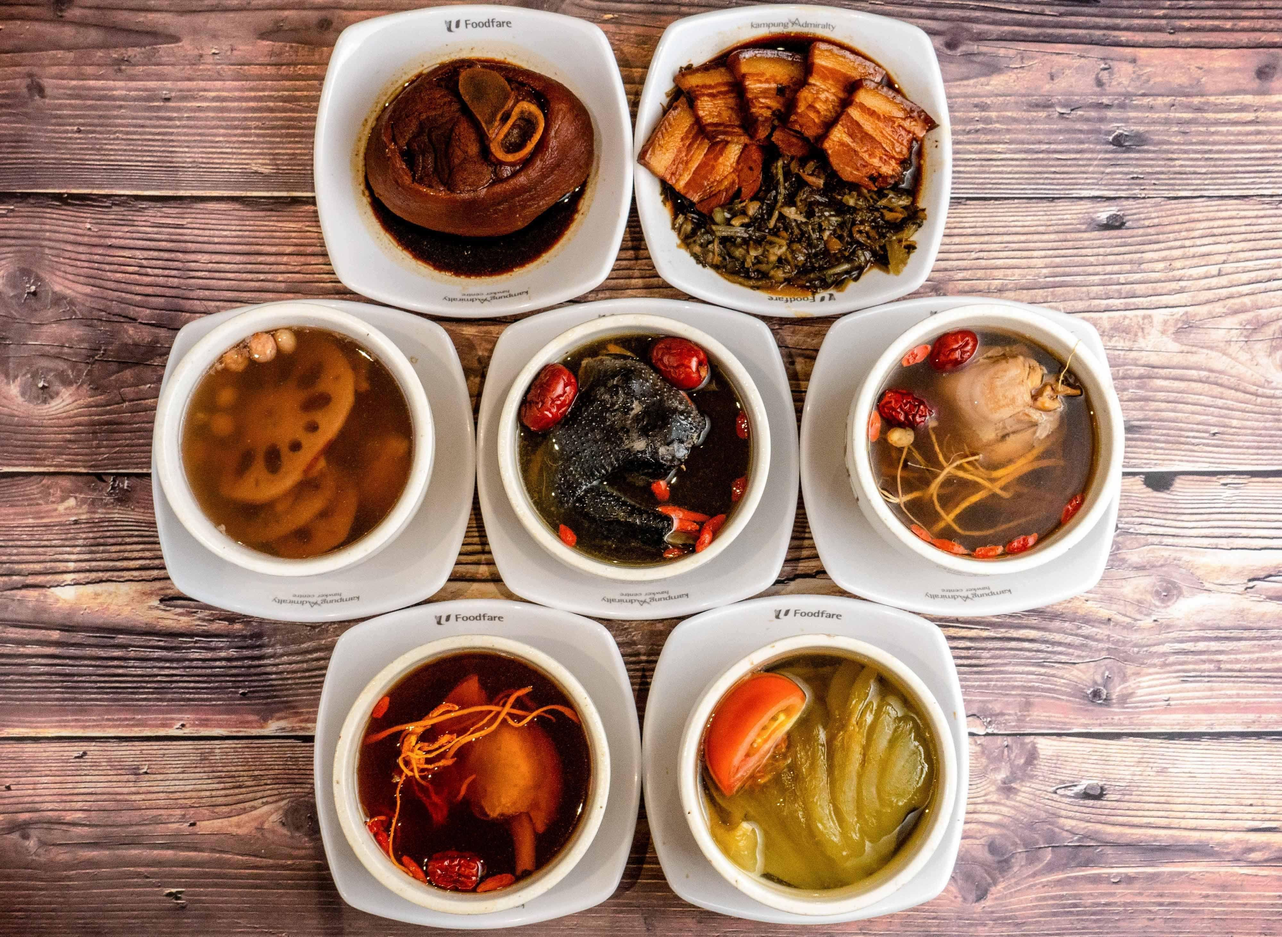Braised Crucian Carp: (149, 301, 472, 616), (633, 2, 958, 313), (314, 616, 647, 919), (314, 6, 628, 316), (655, 614, 946, 916), (847, 297, 1125, 583), (493, 310, 774, 590)
